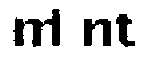l: (51, 6, 67, 48)
m: (12, 17, 55, 50)
n: (77, 16, 113, 50)
t: (114, 10, 138, 52)
